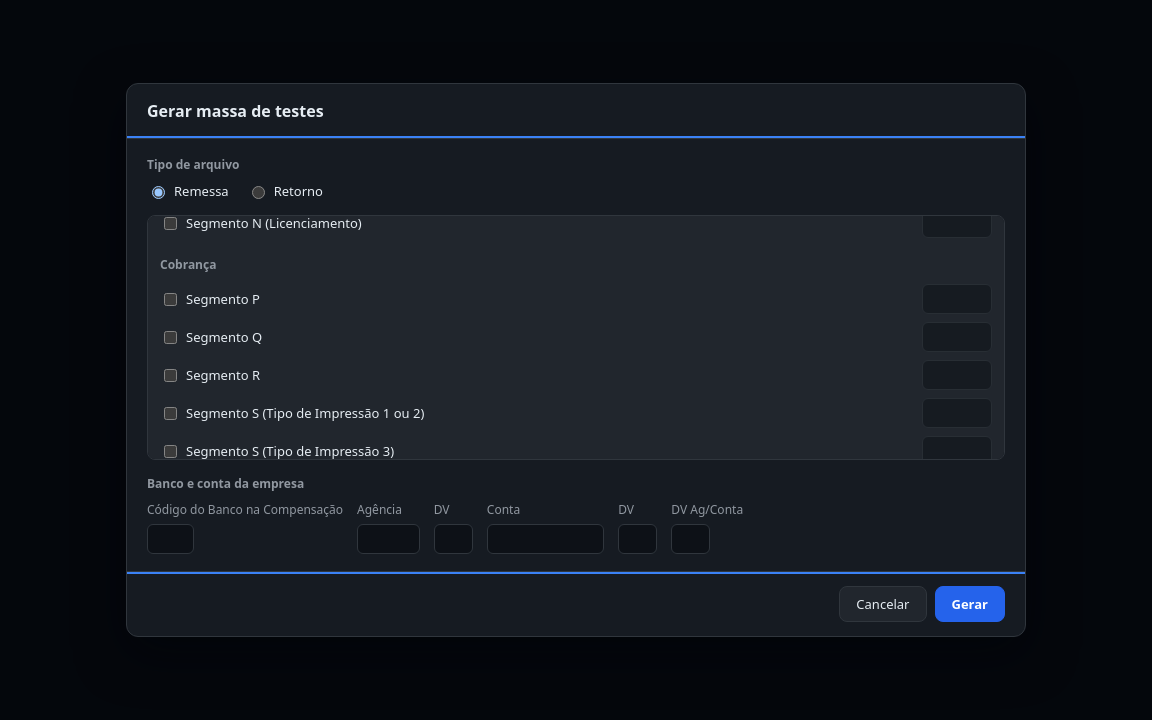
GeneratorDialog (US3): dependentes › marcar Q marca P com selo e aviso; desmarcar P é recusado com o motivo (US3-1/2)
(page scrolled)
Click the checkbox labelled "Segmento Q".
click(170, 337)  # box [164,331,177,344]
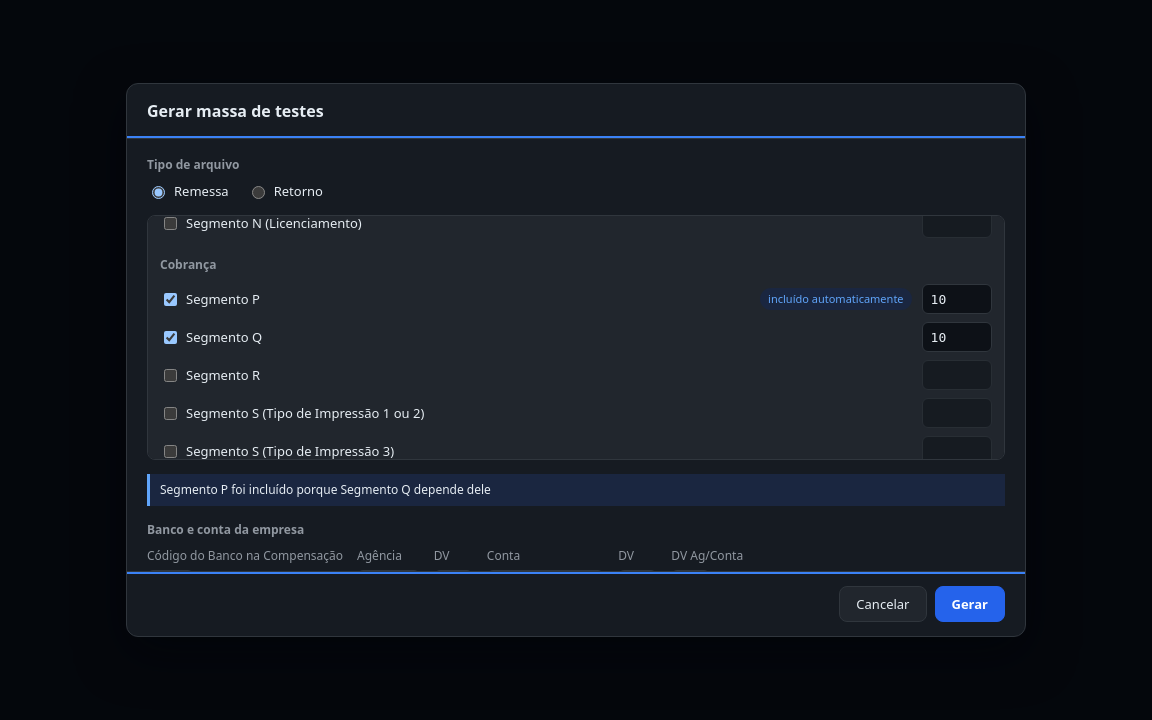
Now the checkbox with test id "generator-variant-segmento-p-cobranca" is checked
Now the text with test id "generator-auto-segmento-p-cobranca" reads "incluído automaticamente", box [768,291,904,306]
Now the message with test id "generator-notices" reads "Segmento P foi incluído porque Segmento Q depende dele", box [160,481,491,498]
Click the checkbox with test id "generator-variant-segmento-p-cobranca".
click(170, 299)  # box [164,293,177,306]
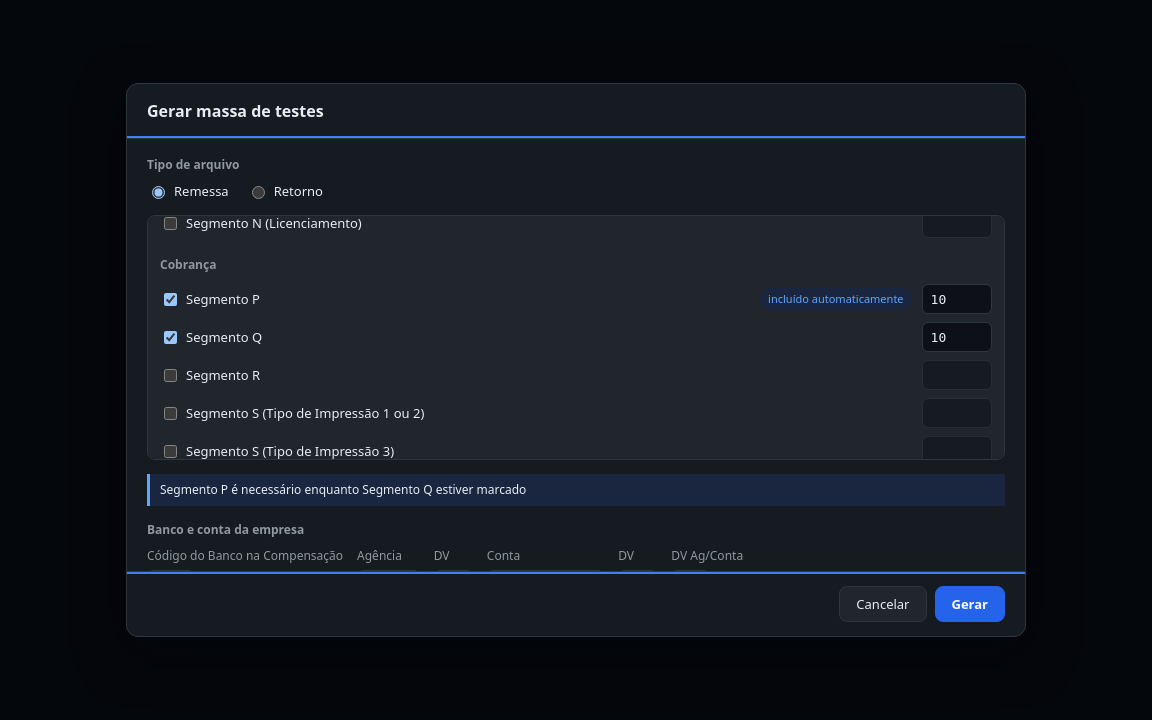
Now the checkbox with test id "generator-variant-segmento-p-cobranca" is checked, box [164,293,177,306]
Now the message with test id "generator-notices" reads "Segmento P é necessário enquanto Segmento Q estiver marcado", box [160,481,526,498]
